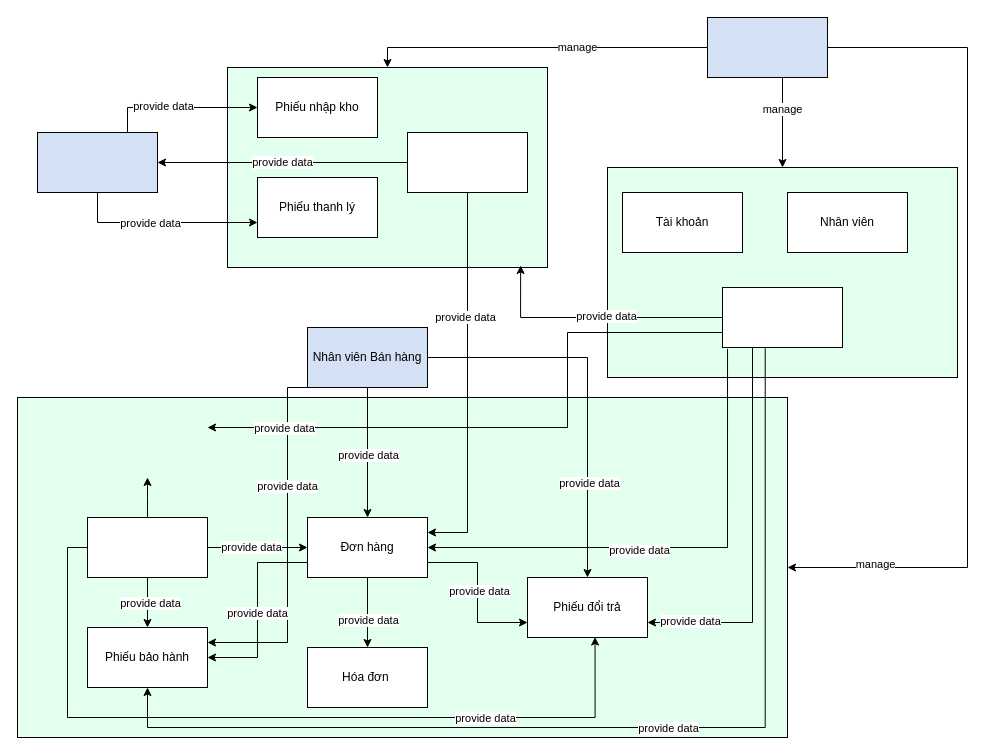
The diagram is 993 pixels wide and 755 high, and some of its shapes have lost their labels. Each missing label, with the centre of its shape:
Hàng tồn: the point at 467,162
Khách hàng: the point at 147,547
Nhân viên Kho: the point at 97,162
Quản lý: the point at 767,47
Sản phẩm: the point at 782,317
